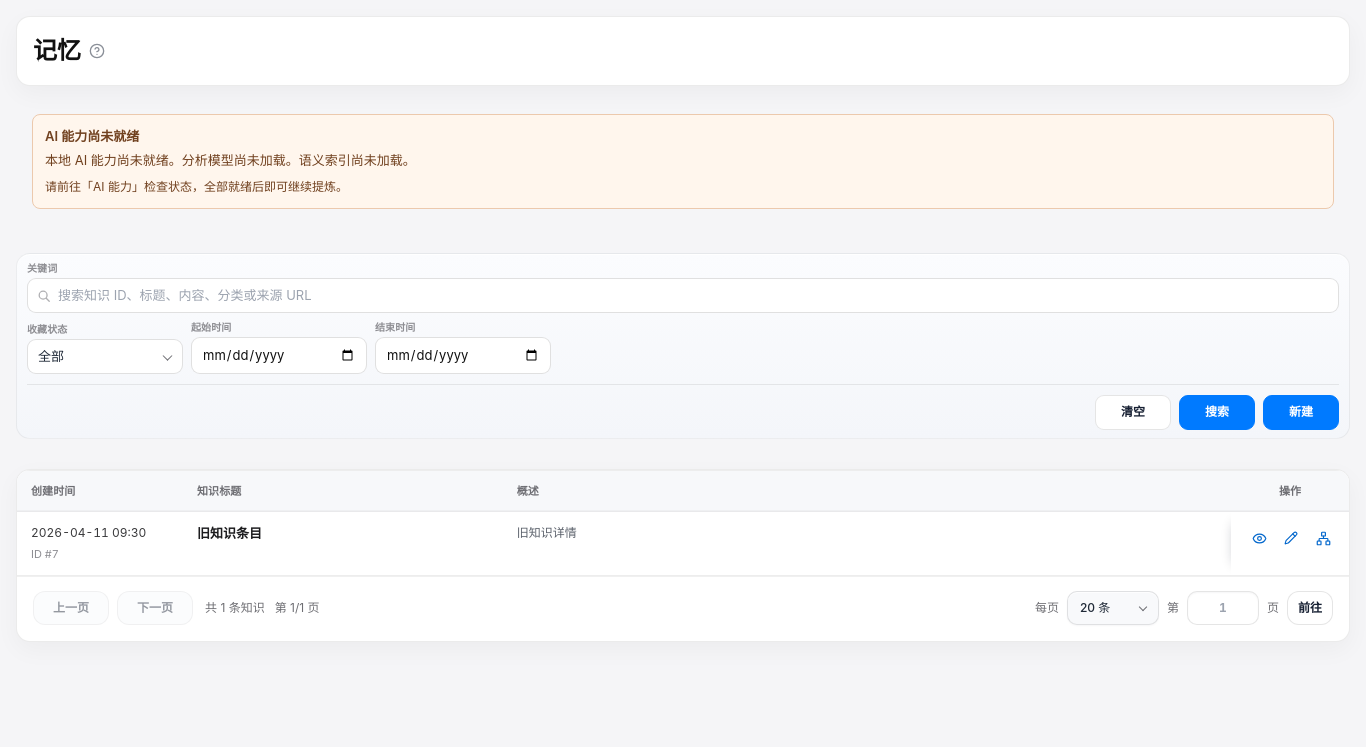
Scenario: 显式搜索交互 › BakePanel 知识搜索无结果后不保留旧详情
This screenshot has width=1366, height=747.
expect the text "旧知识条目" is shown: met, box [197,525,262,541]
In the field with placeholder "搜索知识 ID、标题、内容、分类或来源 URL": (683, 295) [27,278,1339,313], type "不存在"
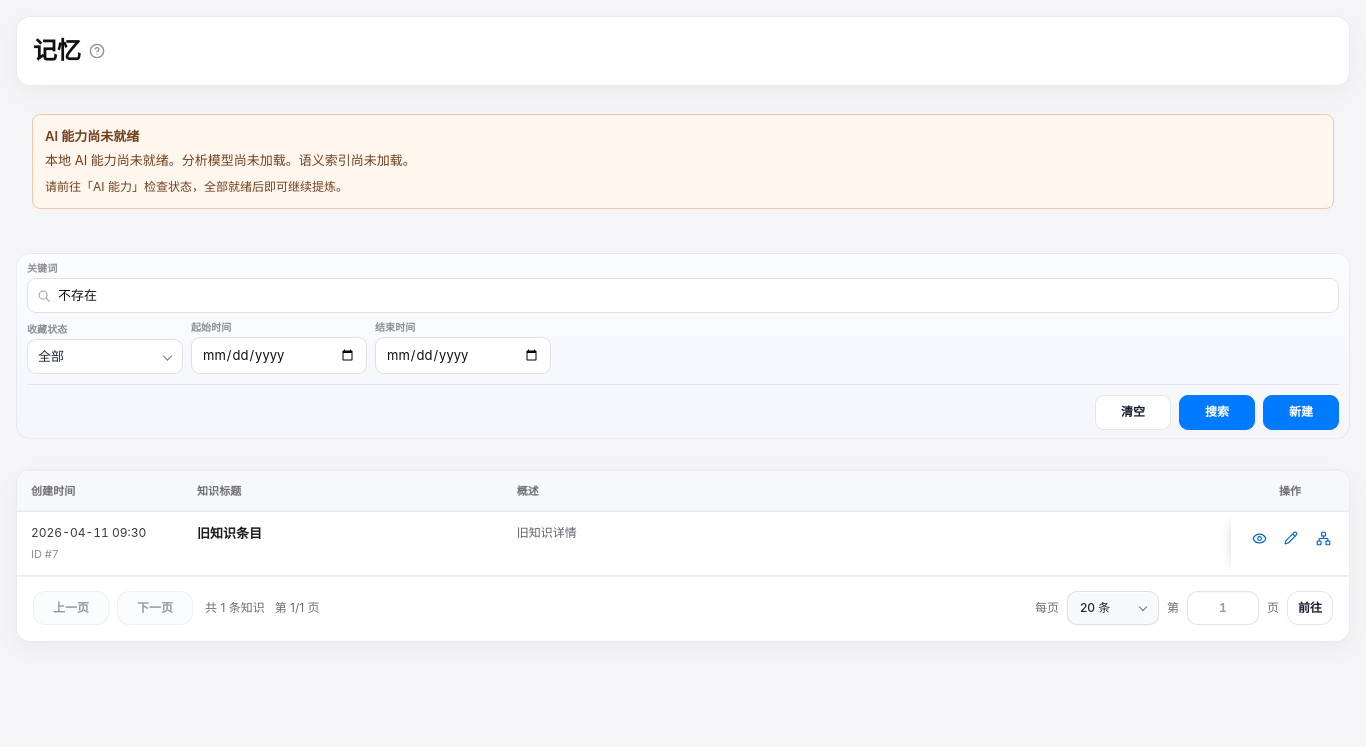
Click the button "搜索": (1217, 412) [1179,395,1255,430]
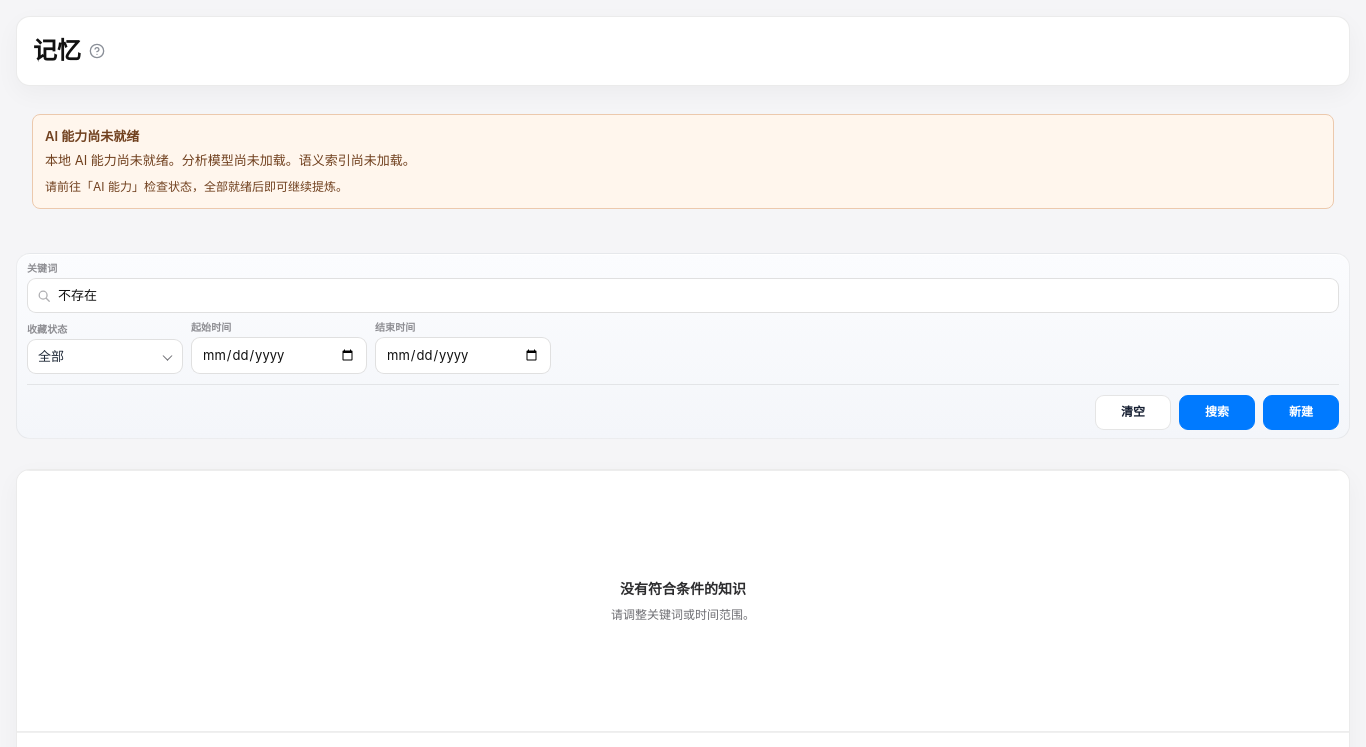
expect the text "没有符合条件的知识" is shown: met, box [620,578,746,599]
